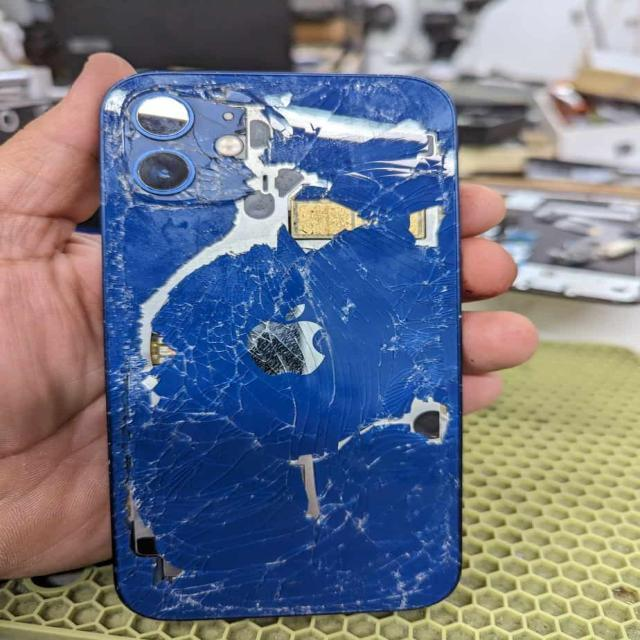Crack: (93, 58, 486, 625)
